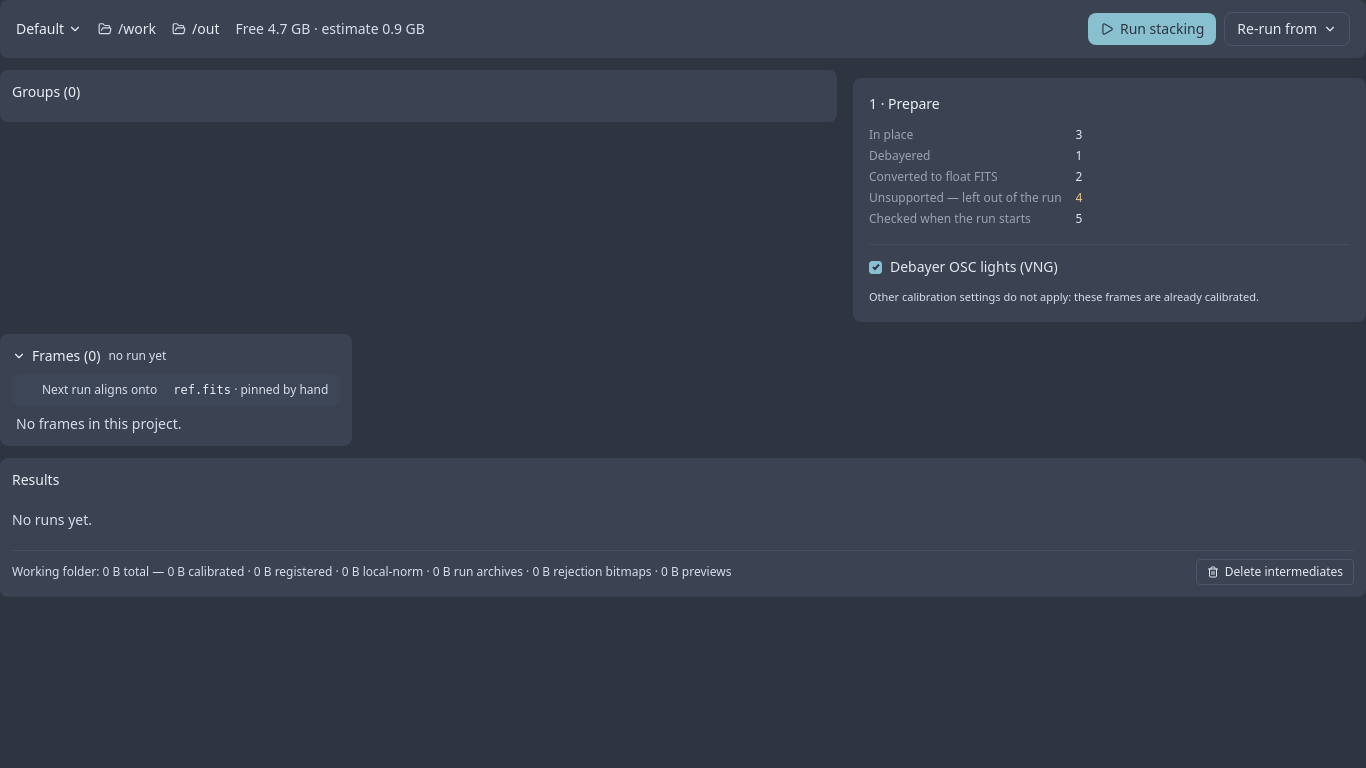
Scenario: StackingTab Re-run menu › words a project's run start with Prepare when no prepared frames are cached
The image size is (1366, 768).
Click the button "Re-run from" at point(1287, 29), box [1224,12,1350,46]
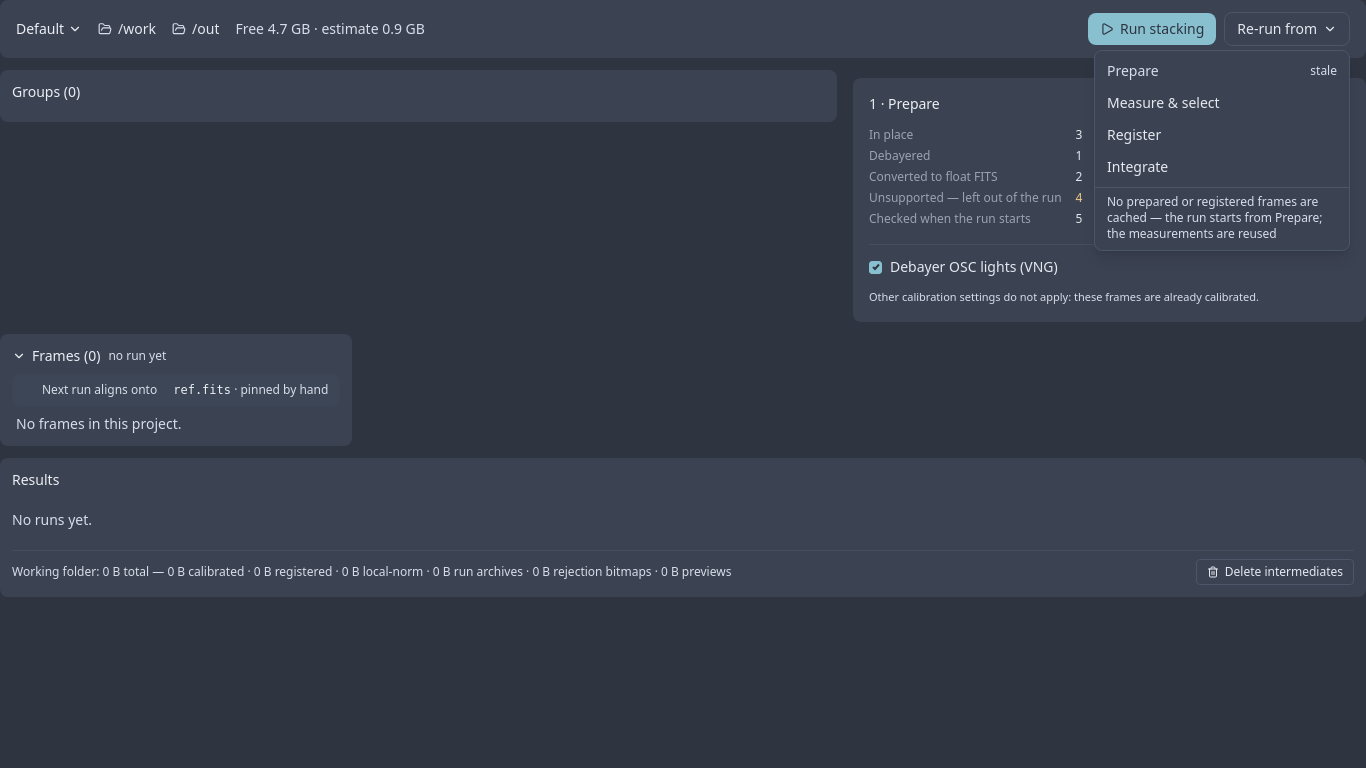
Now the text "No prepared or registered frames are cached — the run starts from Prepare; the measurements are reused" is shown, box [1107,193,1323,242]
